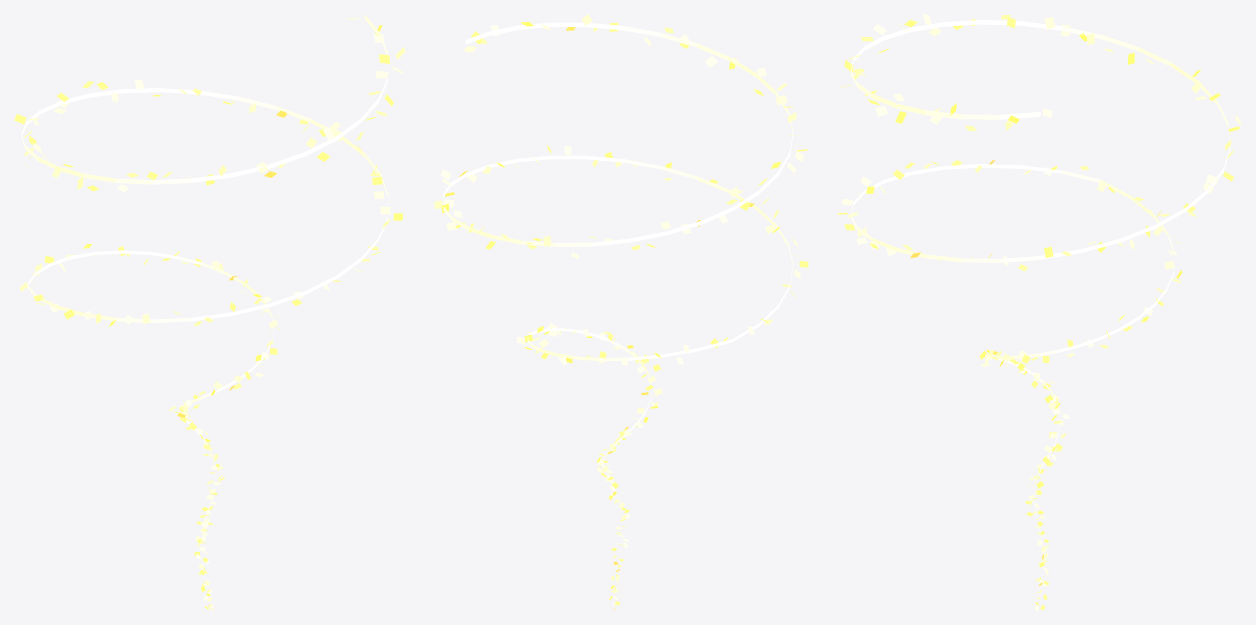
Rendered from spiral.glb.
The picture shows the model from 3 angles, left to right: view 1: azimuth 30°, elevation 25°; view 2: azimuth 150°, elevation 25°; view 3: azimuth 270°, elevation 25°; orthographic projection. The views are drawn at different scales.
Visible parts, largest first — view 1: spiral; view 2: spiral; view 3: spiral.
Boxes of the visible parts, box(x1,y1,x2,y2) form: spiral: box(14, 14, 405, 610); spiral: box(434, 14, 808, 610); spiral: box(837, 14, 1241, 610).
Size of the model in its own units: 38.53 by 60.32 by 38.26.
